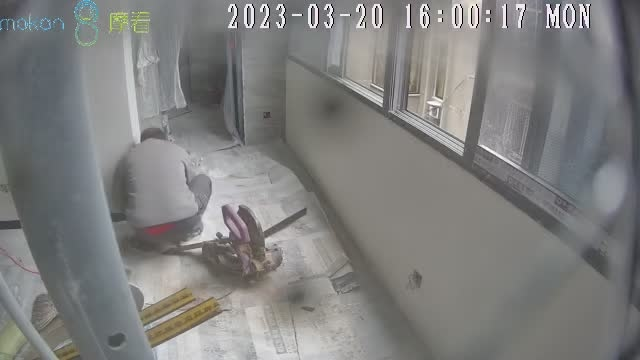people: (113, 127, 213, 243)
window: (291, 1, 637, 285)
